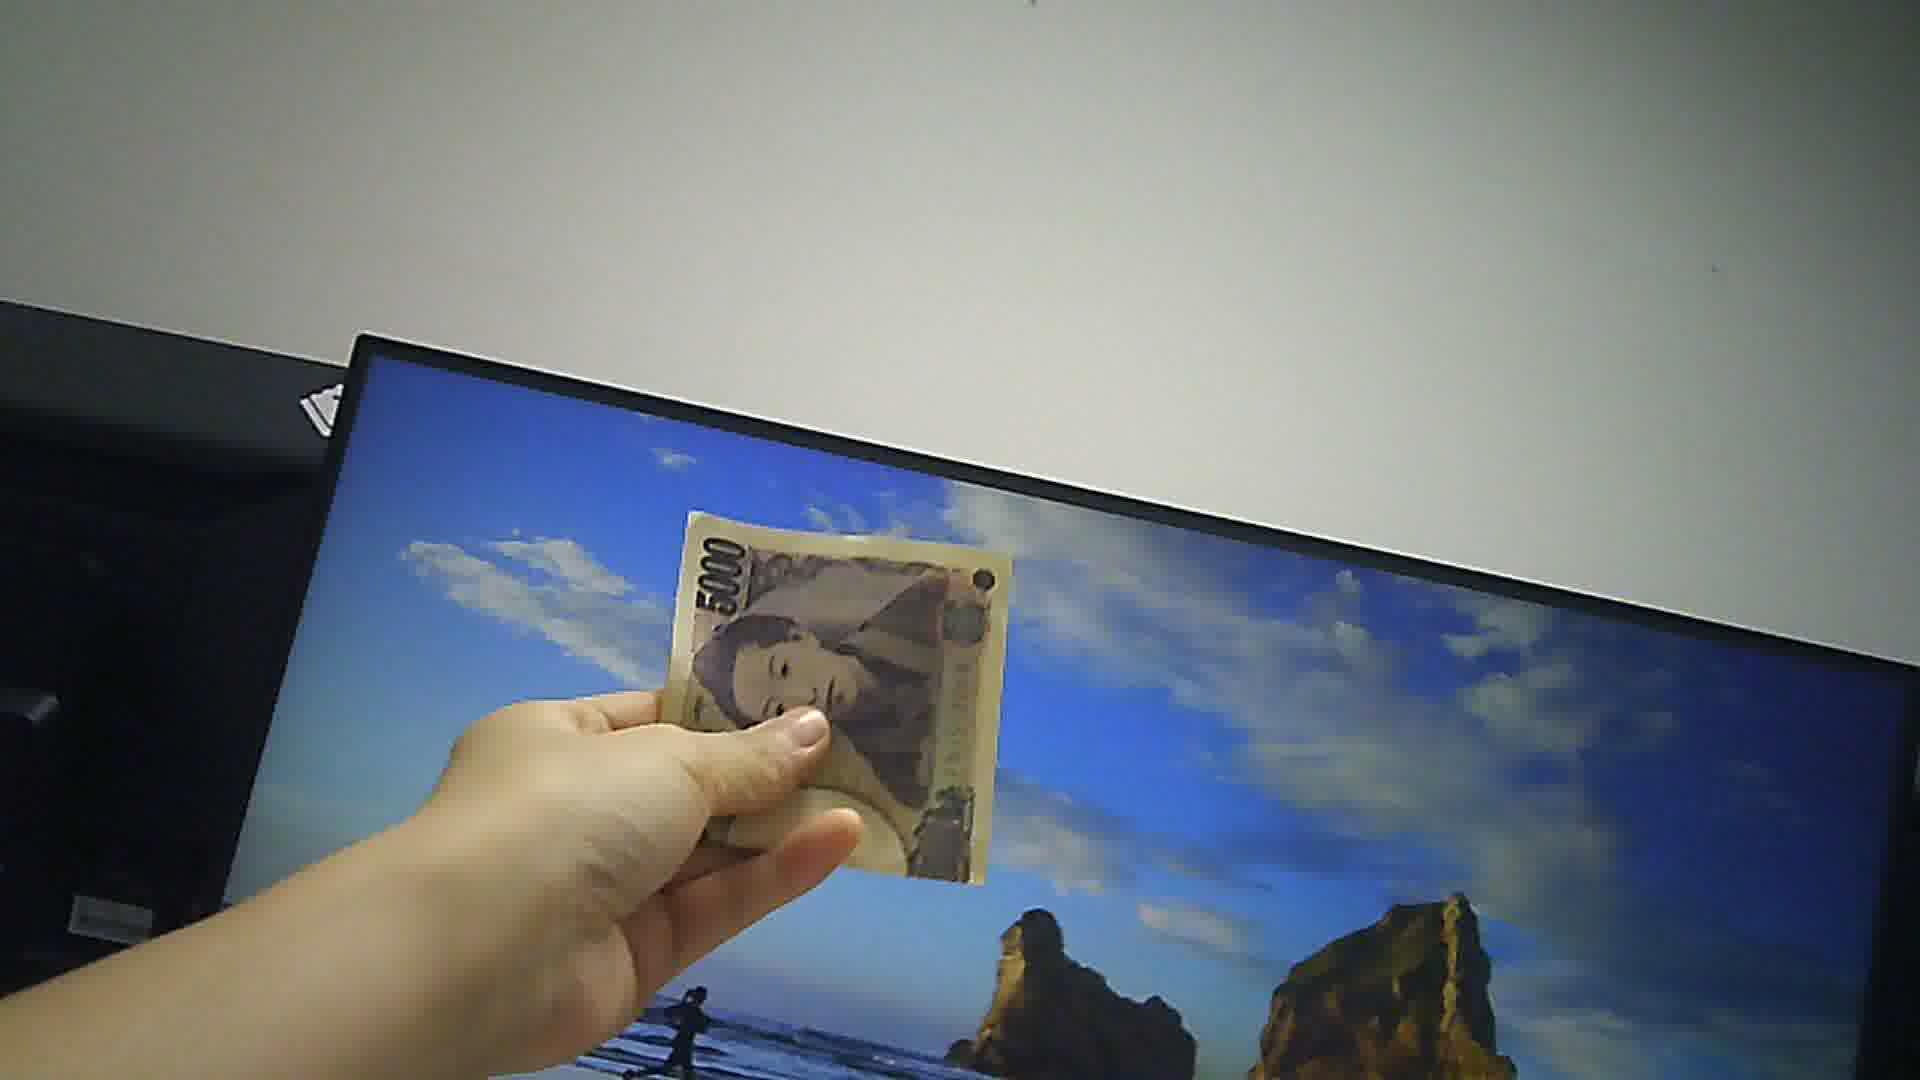5,000 Yen: (642, 505, 1010, 895)
